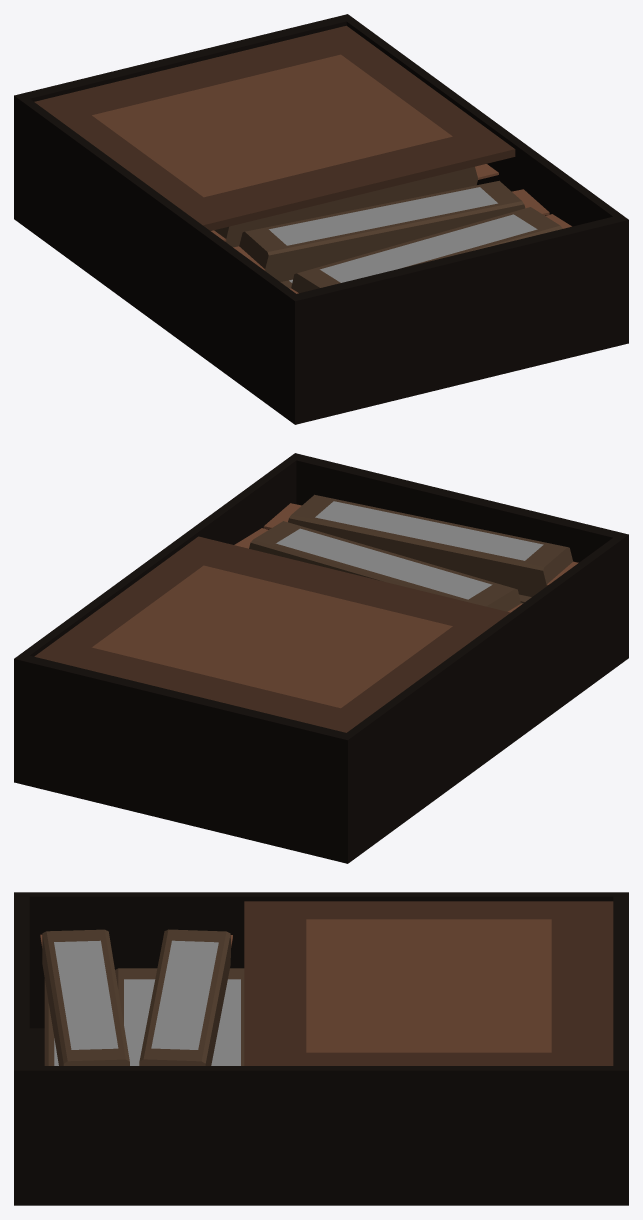
The model's file is Box of Chocolate Bars #1.fbx.
The picture shows the model from 3 angles, top to bottom: view 1: azimuth 30°, elevation 25°; view 2: azimuth 150°, elevation 25°; view 3: azimuth 270°, elevation 25°; orthographic projection. The views are drawn at different scales.
Parts seen in each view (by area): view 1: Box of Chocolate Bars #1; view 2: Box of Chocolate Bars #1; view 3: Box of Chocolate Bars #1.
Part boxes in pixels (left/top/right/bottom): Box of Chocolate Bars #1: left=14, top=14, right=628, bottom=424; Box of Chocolate Bars #1: left=14, top=453, right=628, bottom=863; Box of Chocolate Bars #1: left=14, top=892, right=628, bottom=1205.
Size of the model in its own units: 34.38 by 12.16 by 50.13.
Materials: 1 (1 with a texture image).
